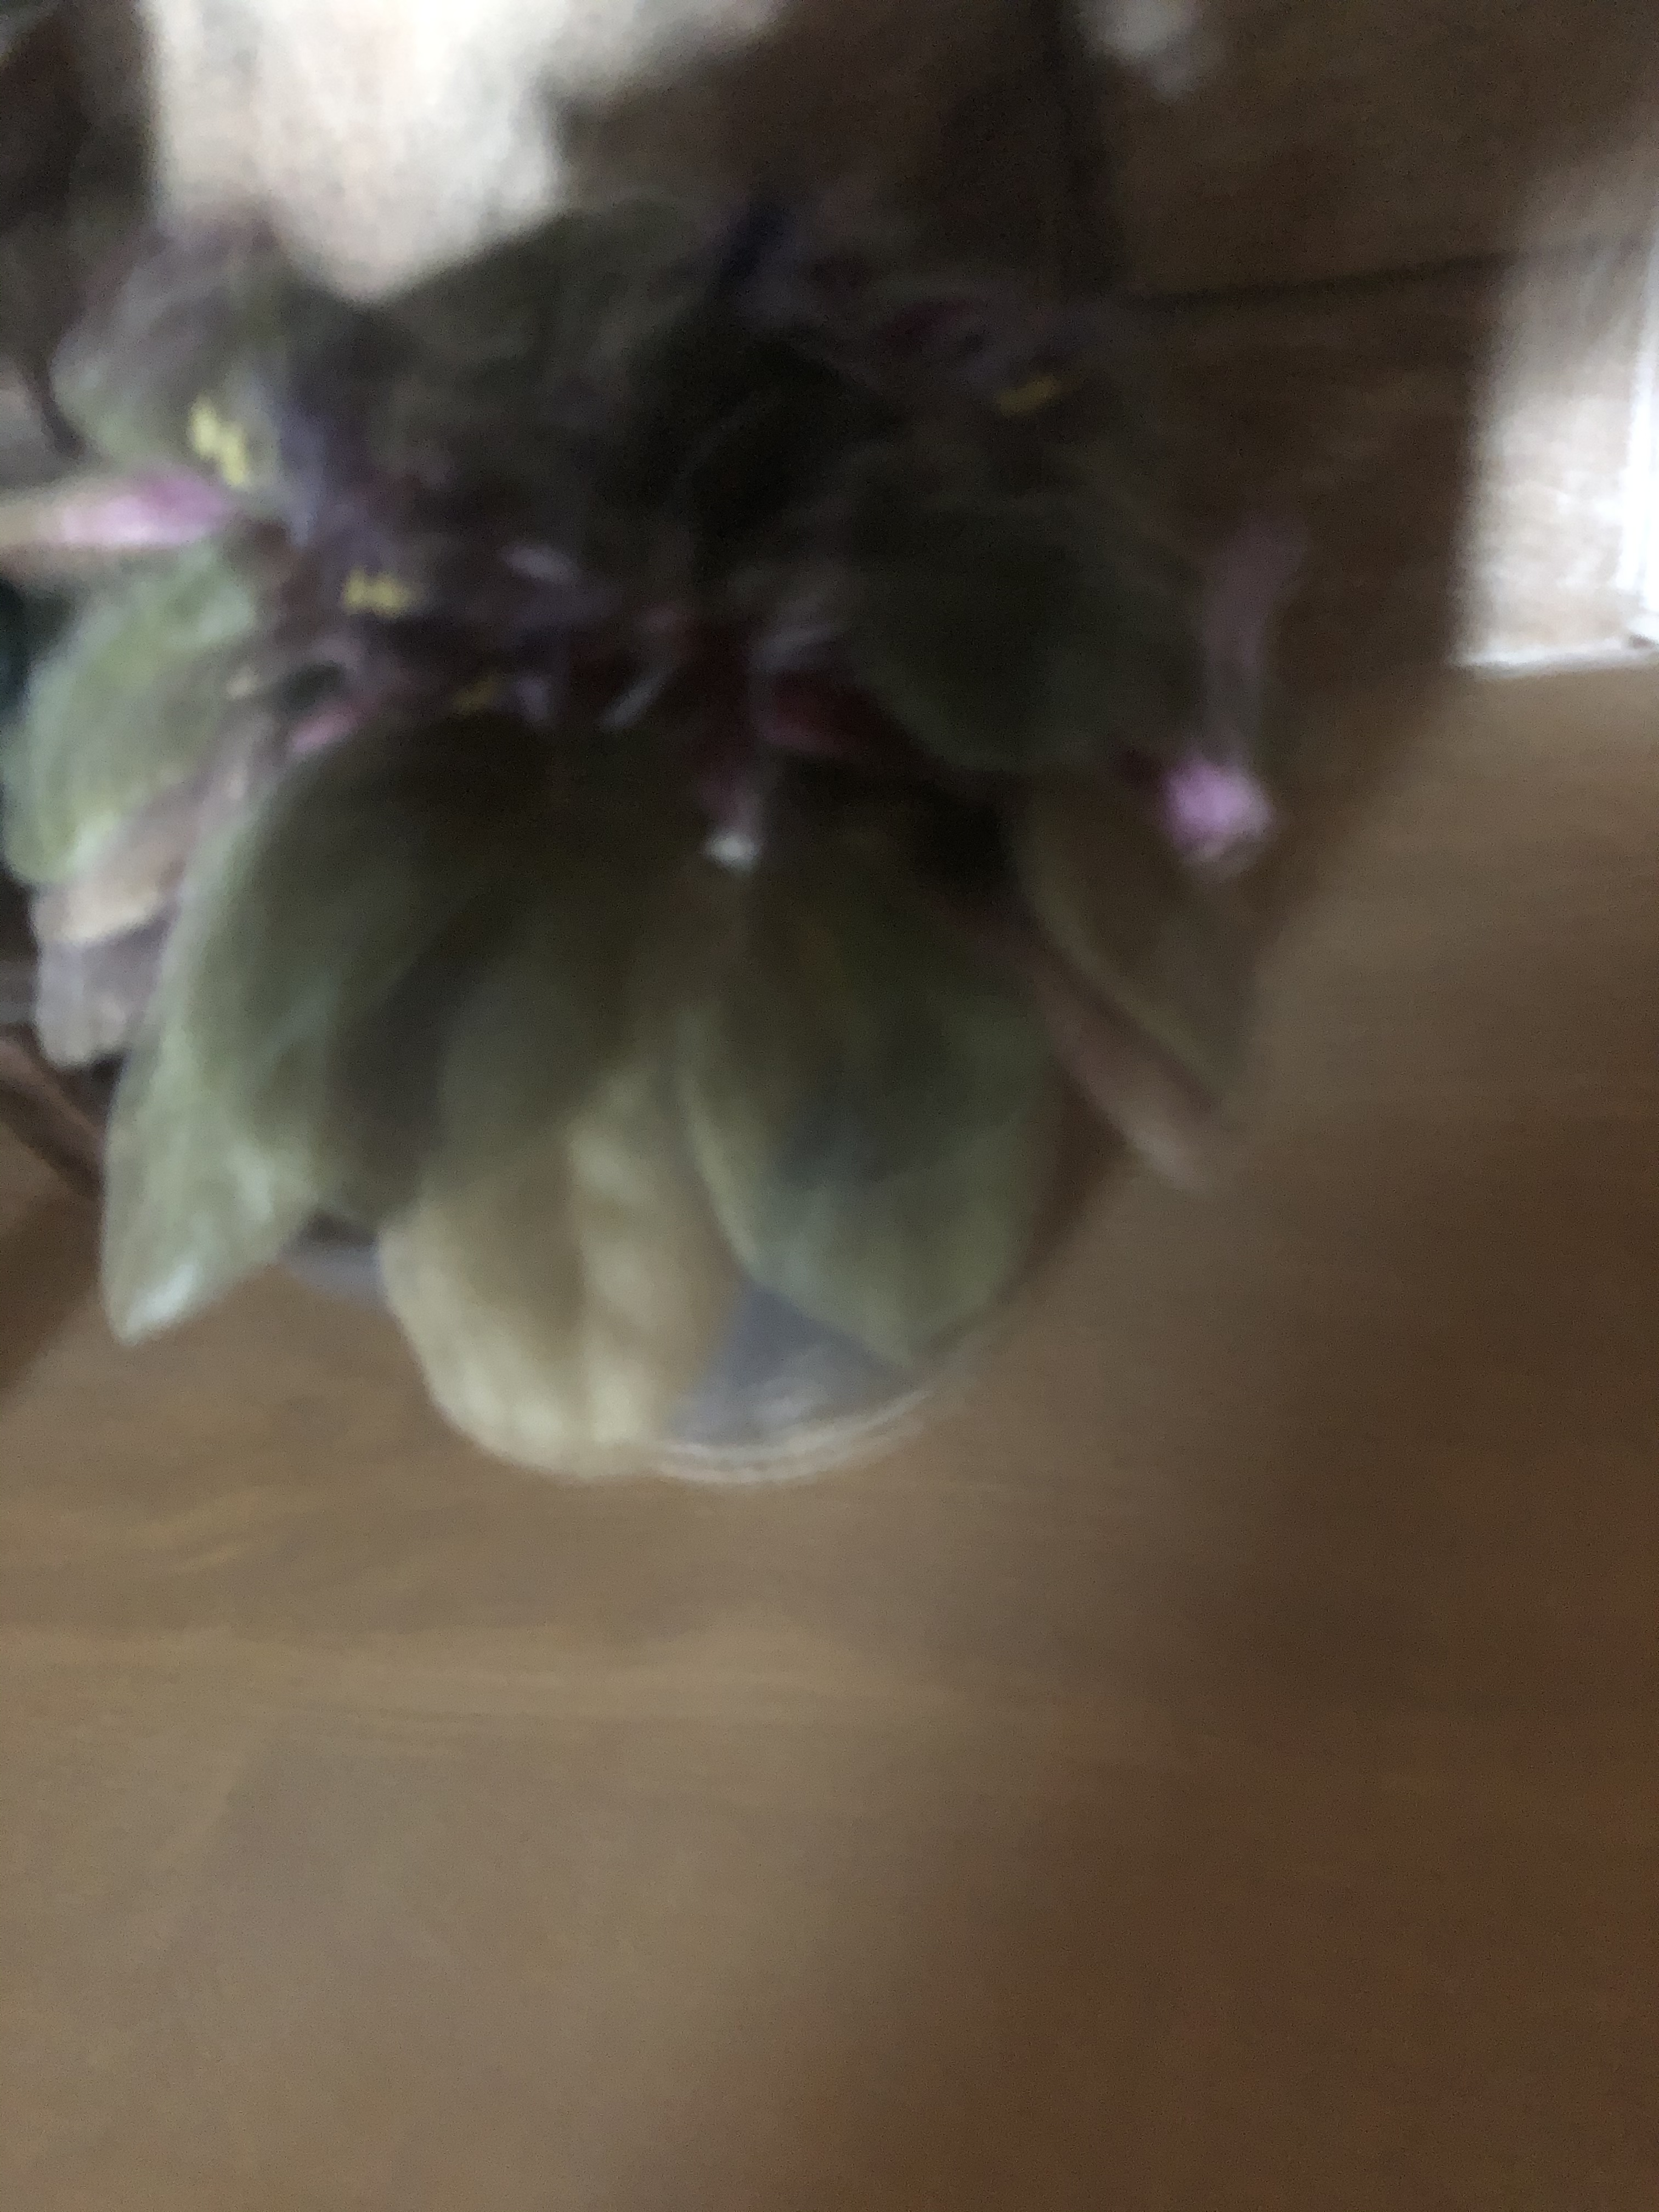ignore: (31, 216, 1340, 1350)
